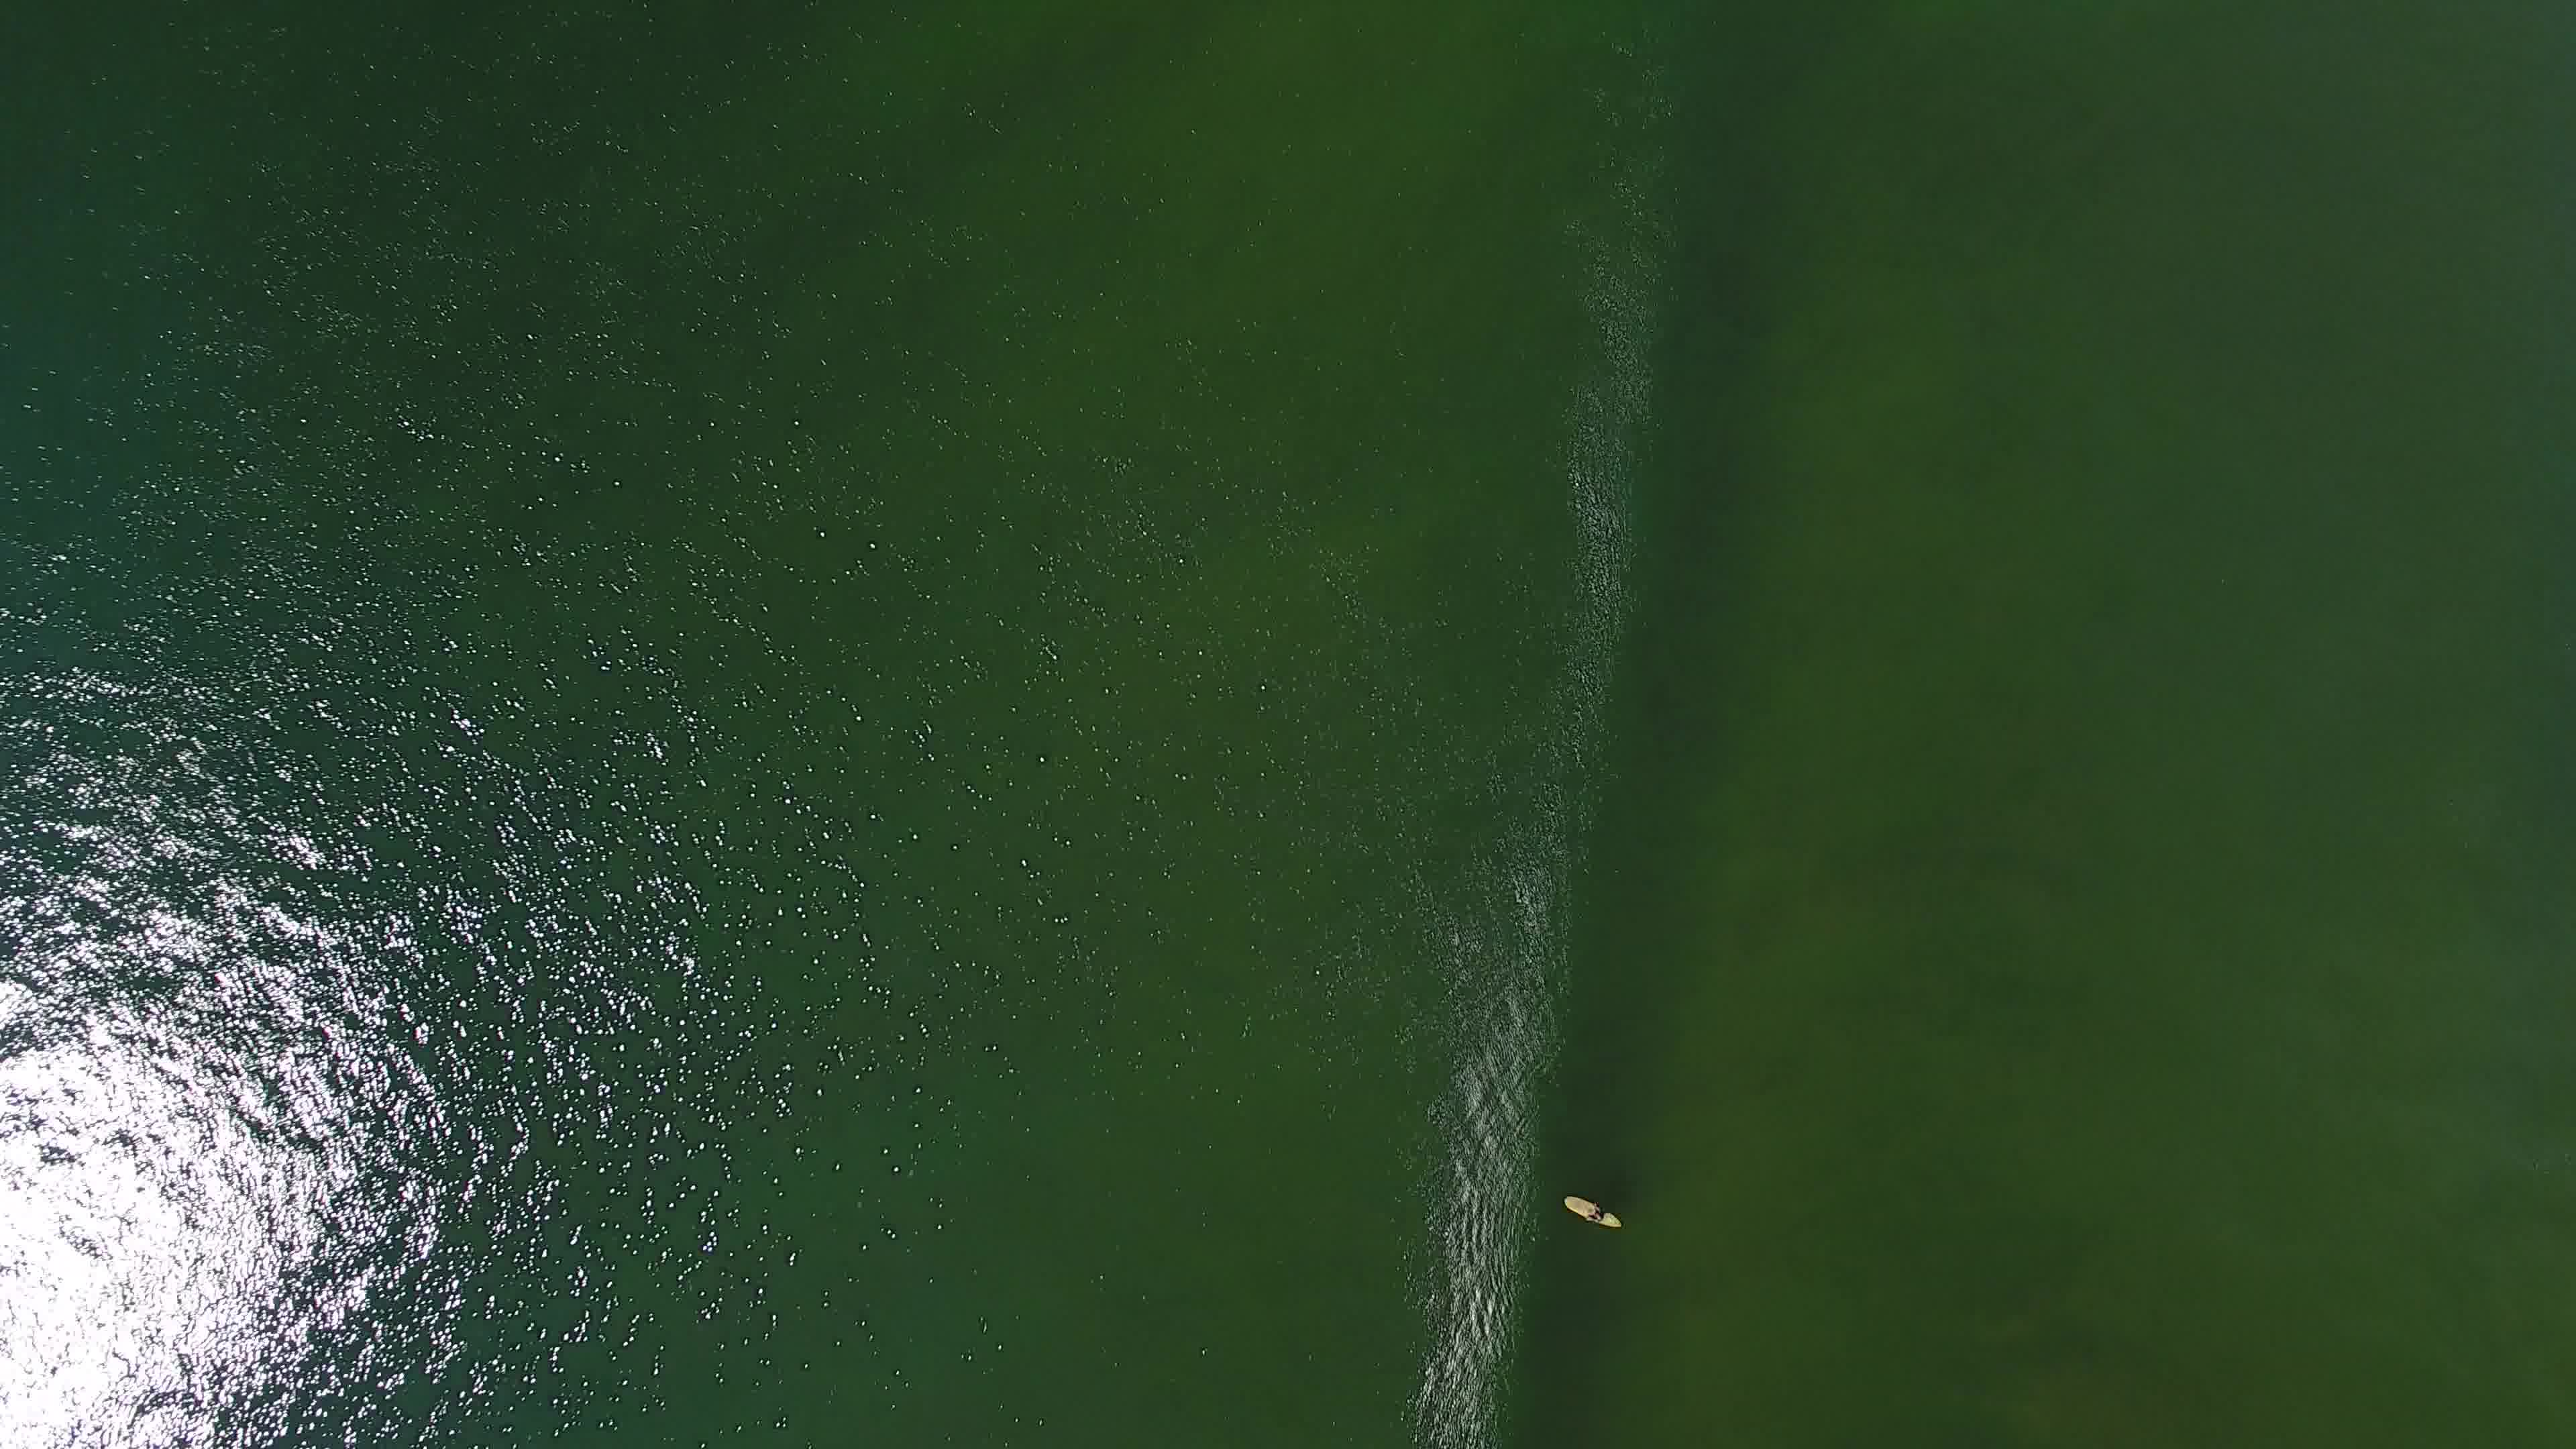surfer: (1562, 1191, 1633, 1237)
